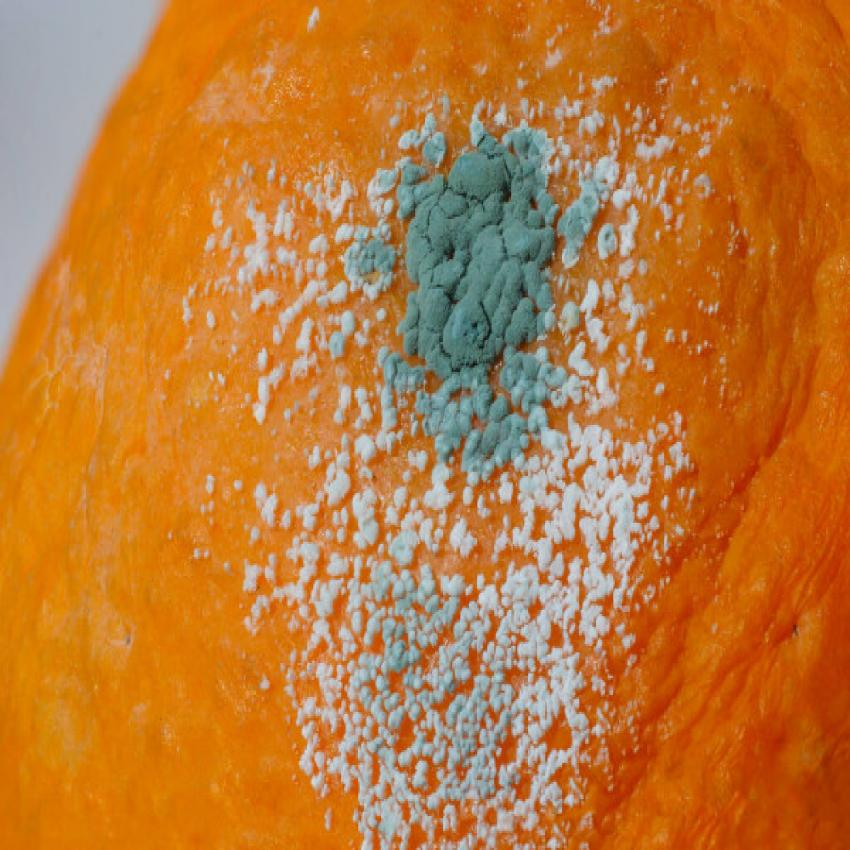Mal estado: (0, 0, 849, 846)
